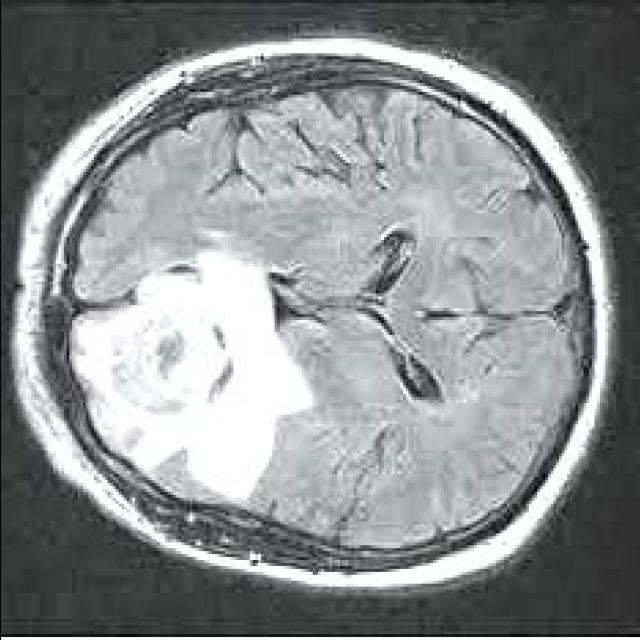tumor: (66, 255, 312, 504)
